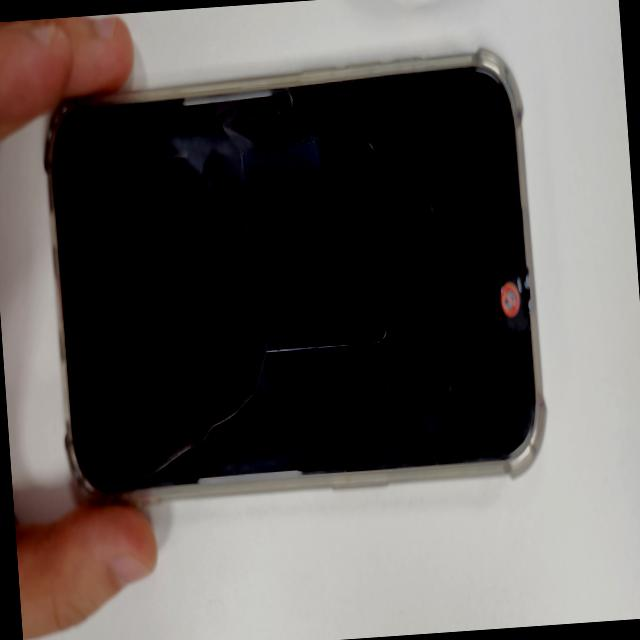phone: (42, 51, 550, 508)
sticker: (493, 264, 532, 342)
